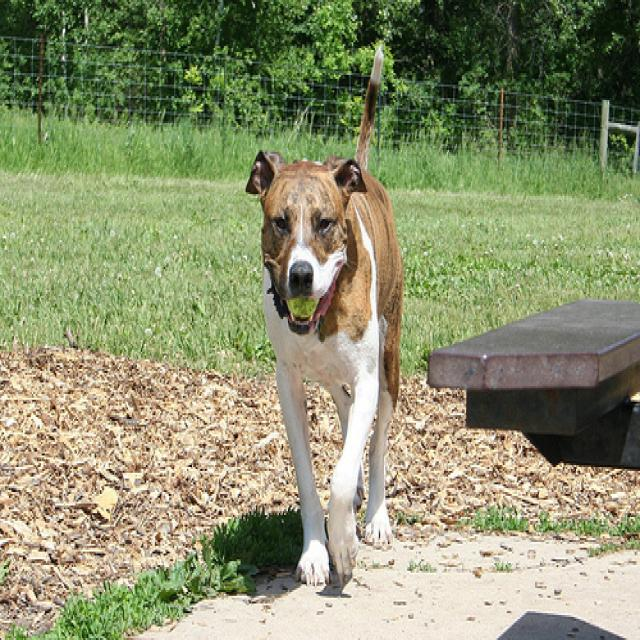dog-american_bulldog: (242, 33, 411, 602)
